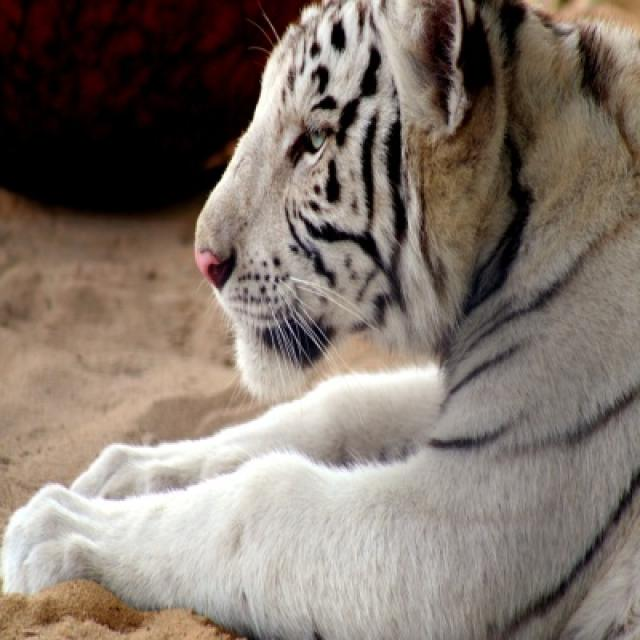Tiger: (10, 0, 638, 637)
